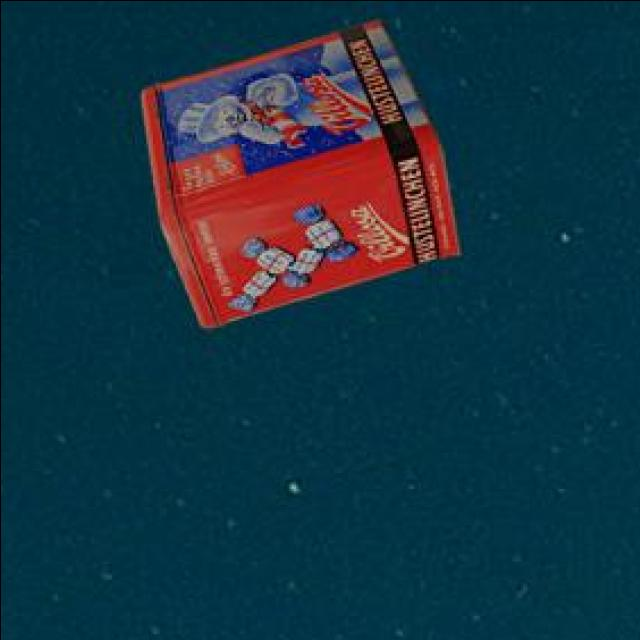logam: (144, 22, 462, 330)
